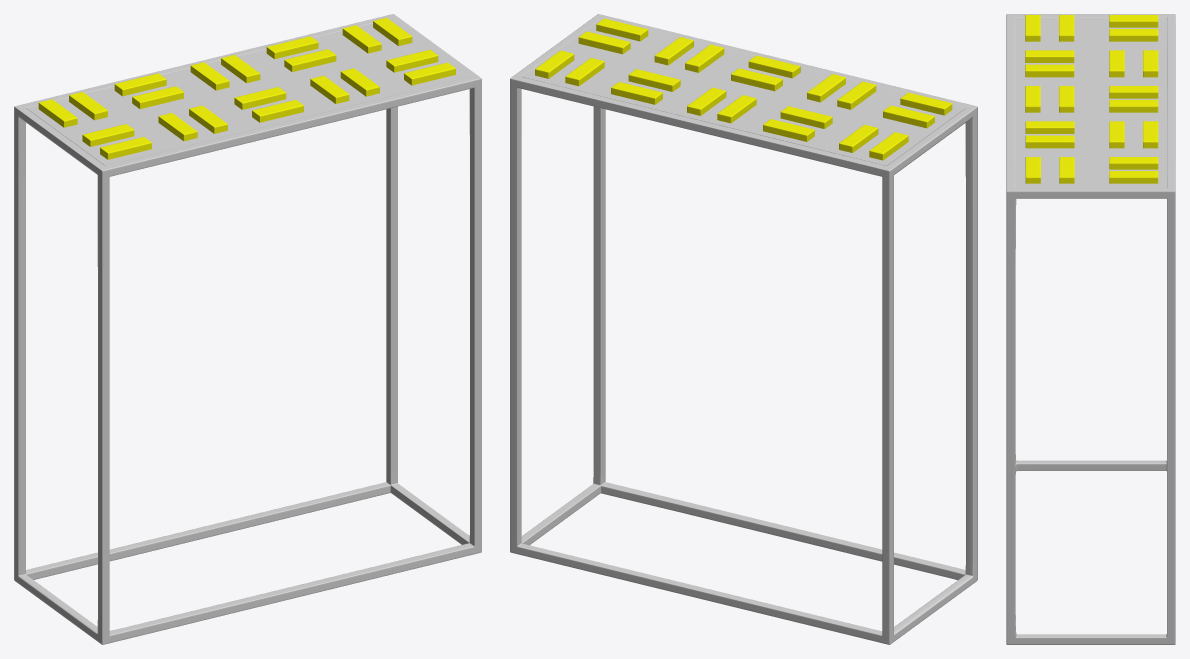
Rendered from Feet_SteelFrame_05.gltf.
3 renders of one model, left to right at view 1: azimuth 30°, elevation 25°; view 2: azimuth 150°, elevation 25°; view 3: azimuth 270°, elevation 25°, orthographic. The views are drawn at different scales.
Parts seen in each view (by area): view 1: polySurface36, polySurface37, polySurface43, polySurface23, polySurface26, polySurface40, polySurface44, polySurface39, polySurface24, polySurface32, polySurface25, polySurface33; view 2: polySurface36, polySurface37, polySurface23, polySurface25, polySurface32, polySurface33, polySurface24, polySurface44, polySurface39, polySurface26, polySurface40, polySurface43; view 3: polySurface36, polySurface37, polySurface35, polySurface27, polySurface29, polySurface38, polySurface42, polySurface46, polySurface30, polySurface31, polySurface34, polySurface45 (+10 smaller).
Part boxes in pixels (x1,y1,x2,y2): polySurface36: (14,14,481,644); polySurface37: (26,19,469,165); polySurface43: (266,36,318,59); polySurface23: (386,49,438,72); polySurface26: (234,87,286,109); polySurface40: (114,73,166,96); polySurface44: (284,49,336,71); polySurface39: (82,124,134,146); polySurface24: (132,86,183,108); polySurface32: (404,62,455,85); polySurface25: (252,100,303,122); polySurface33: (100,137,151,159); polySurface36: (510,14,977,644); polySurface37: (522,19,965,165); polySurface23: (578,31,630,54); polySurface25: (748,55,800,78); polySurface32: (596,18,648,41); polySurface33: (900,92,952,115); polySurface24: (780,106,832,128); polySurface44: (628,69,680,91); polySurface39: (883,105,934,128); polySurface26: (731,68,782,91); polySurface40: (763,119,814,141); polySurface43: (611,82,662,104); polySurface36: (1006,14,1175,644); polySurface37: (1015,17,1166,187); polySurface35: (1025,135,1074,148); polySurface27: (1025,64,1074,77); polySurface29: (1109,15,1158,27); polySurface38: (1109,29,1158,41); polySurface42: (1109,100,1158,112); polySurface46: (1109,171,1158,183); polySurface30: (1025,50,1074,62); polySurface31: (1109,86,1158,98); polySurface34: (1025,121,1074,133); polySurface45: (1109,157,1158,169).
Size of the model in its own units: 0.6015 by 0.7279 by 0.2422.
Materials: 2 (1 with a texture image).
